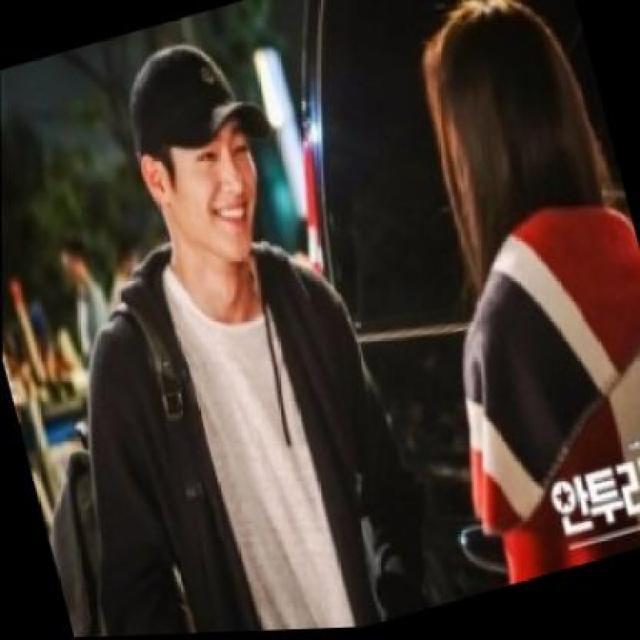hat: (111, 21, 278, 179)
